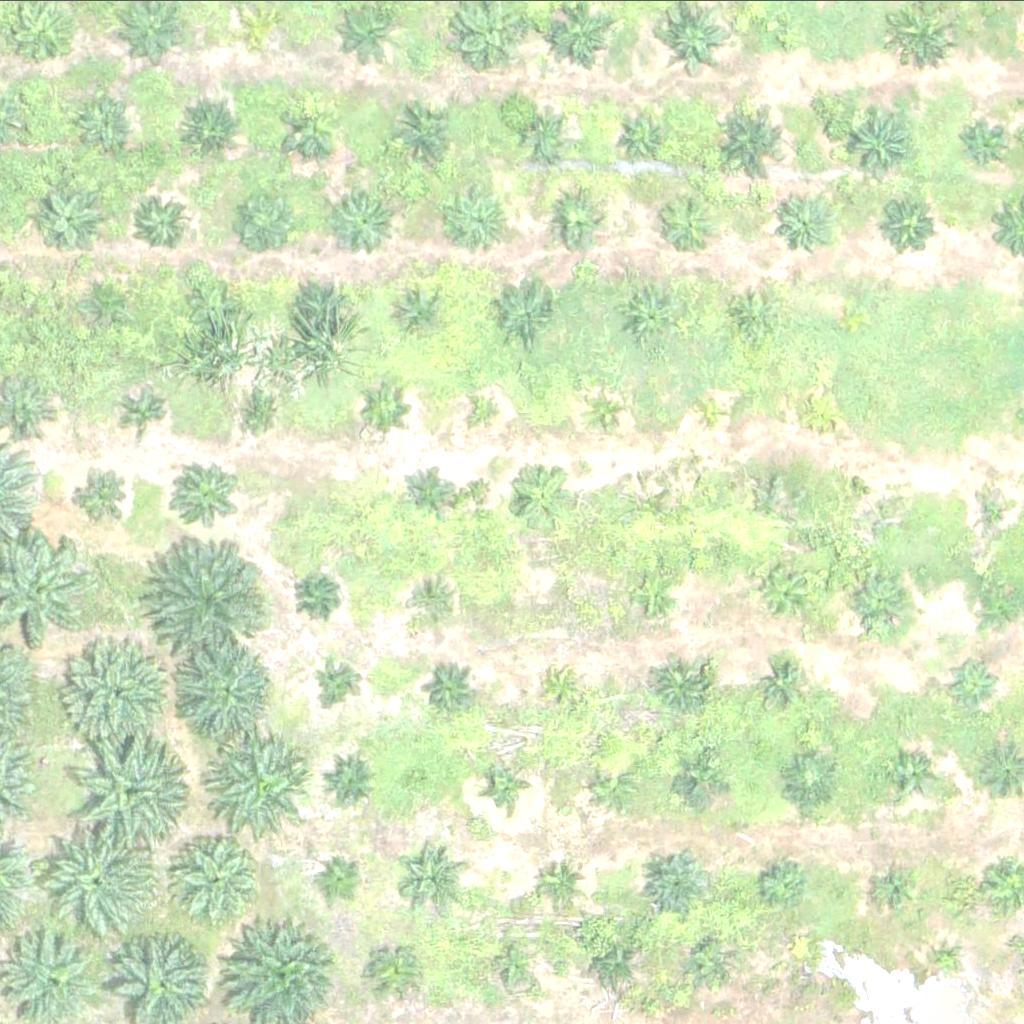Kelapa_Sawit: (68, 725, 194, 850), (34, 817, 160, 942), (149, 529, 274, 654), (62, 640, 175, 753), (212, 732, 325, 844), (173, 643, 274, 743), (167, 829, 268, 929), (708, 97, 796, 184), (659, 1, 735, 76), (229, 187, 305, 262), (839, 106, 914, 181), (165, 455, 240, 530), (657, 195, 720, 258), (450, 190, 513, 253), (774, 192, 837, 255), (891, 1, 954, 64), (410, 849, 473, 912), (364, 943, 427, 1006), (848, 576, 911, 639), (493, 277, 556, 340), (646, 847, 709, 910), (623, 281, 686, 344), (293, 276, 356, 339), (177, 97, 240, 160), (481, 932, 544, 995), (334, 192, 397, 254), (877, 195, 940, 257), (394, 102, 457, 164), (551, 2, 614, 64), (650, 653, 713, 715), (751, 559, 814, 621), (36, 191, 99, 253), (511, 463, 574, 525), (785, 753, 836, 803), (397, 285, 448, 335), (667, 755, 718, 805), (589, 935, 640, 985), (82, 466, 133, 516), (191, 278, 242, 328), (532, 859, 583, 909), (683, 934, 734, 984), (756, 858, 807, 908), (756, 660, 807, 710), (971, 486, 1022, 536), (969, 574, 1020, 624), (946, 656, 997, 706), (888, 748, 939, 798), (556, 196, 606, 246), (965, 124, 1015, 174), (286, 104, 336, 154), (325, 755, 375, 805), (423, 661, 473, 711), (724, 291, 774, 341), (138, 196, 188, 246), (79, 102, 129, 152), (402, 465, 452, 515), (627, 565, 677, 615), (587, 762, 637, 812), (320, 854, 370, 904), (873, 863, 923, 913), (617, 116, 668, 165), (367, 383, 405, 421), (295, 576, 333, 614), (84, 283, 122, 321), (468, 390, 506, 428), (587, 392, 625, 430), (694, 390, 732, 428), (794, 394, 832, 432), (541, 668, 579, 706), (486, 765, 524, 803), (321, 660, 359, 697), (526, 118, 564, 155), (419, 583, 457, 620), (548, 571, 586, 608), (846, 488, 884, 525), (129, 393, 166, 430), (239, 389, 276, 426), (247, 13, 272, 38), (774, 23, 799, 48), (930, 951, 955, 976)
